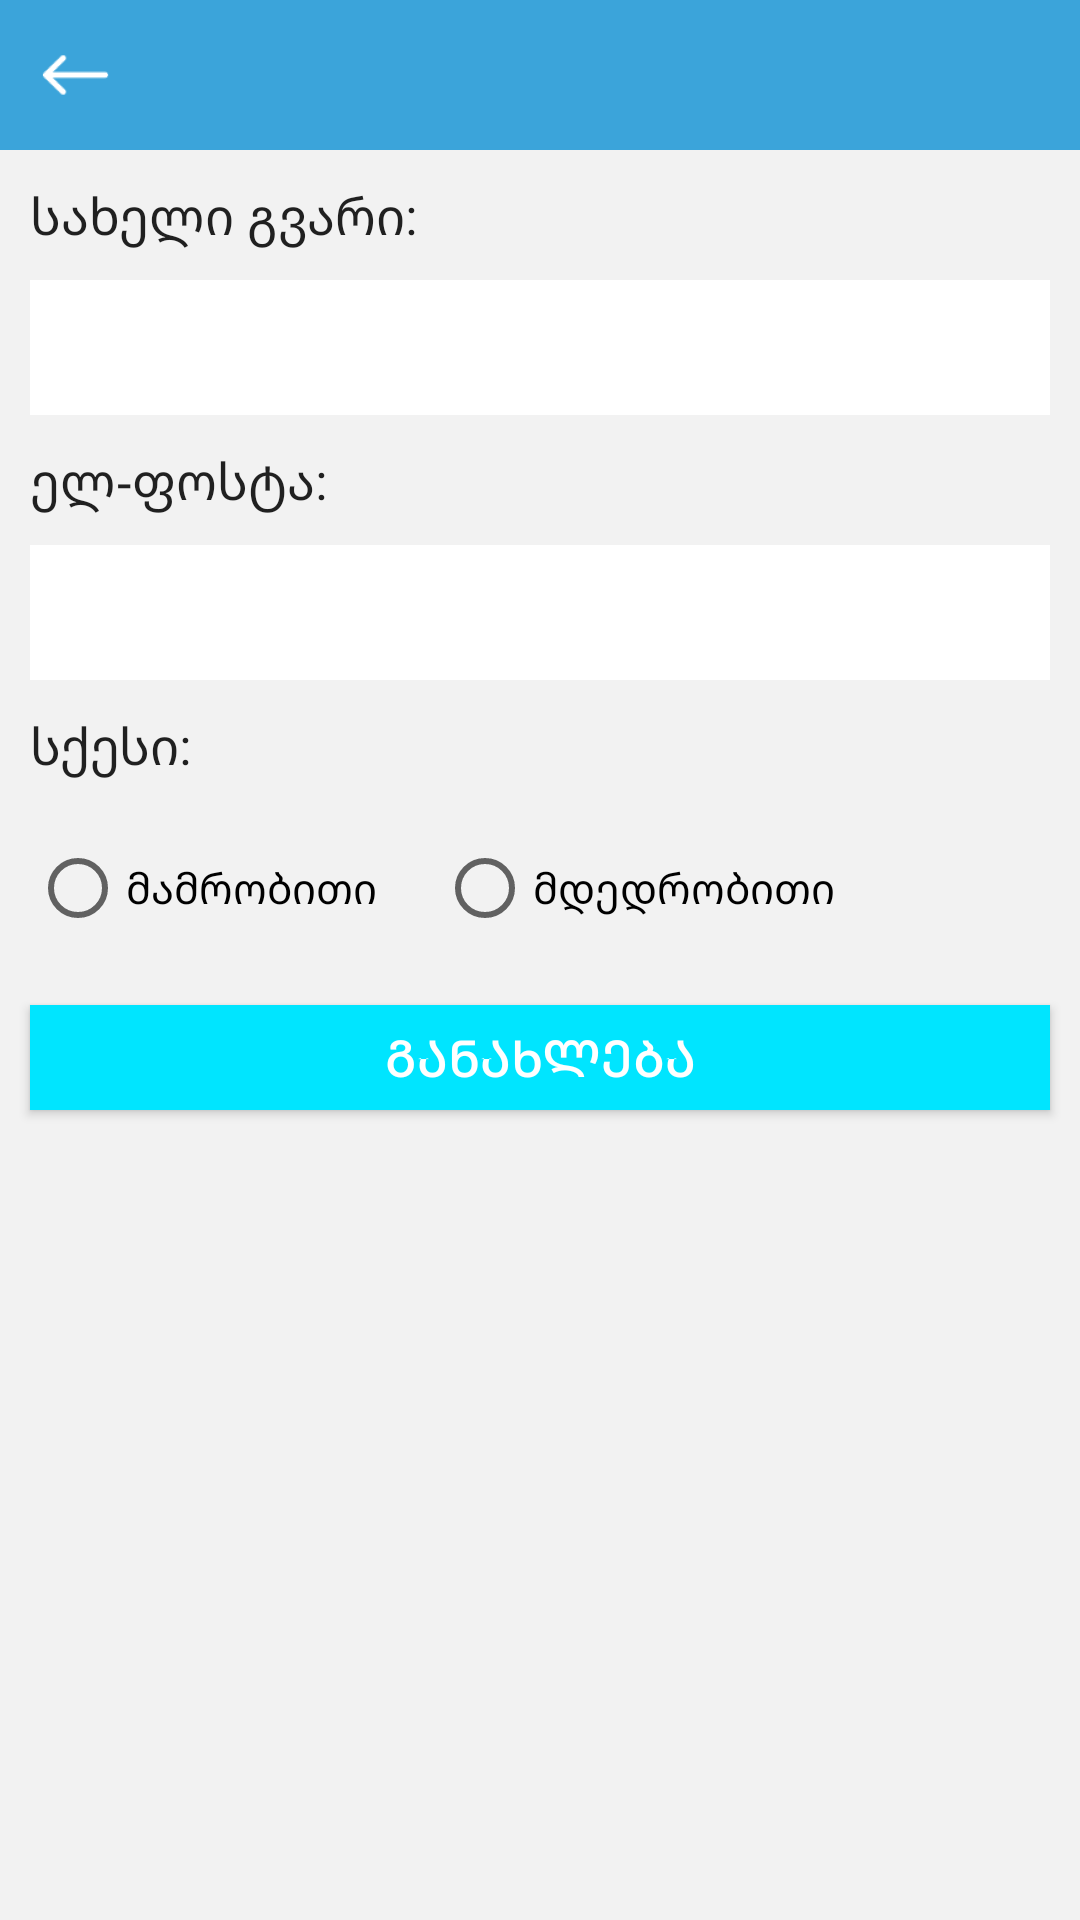

Where to tap for icons on this 1080×1920 app screen, as (x=x, y=y):
back buttom: (x=75, y=75)
